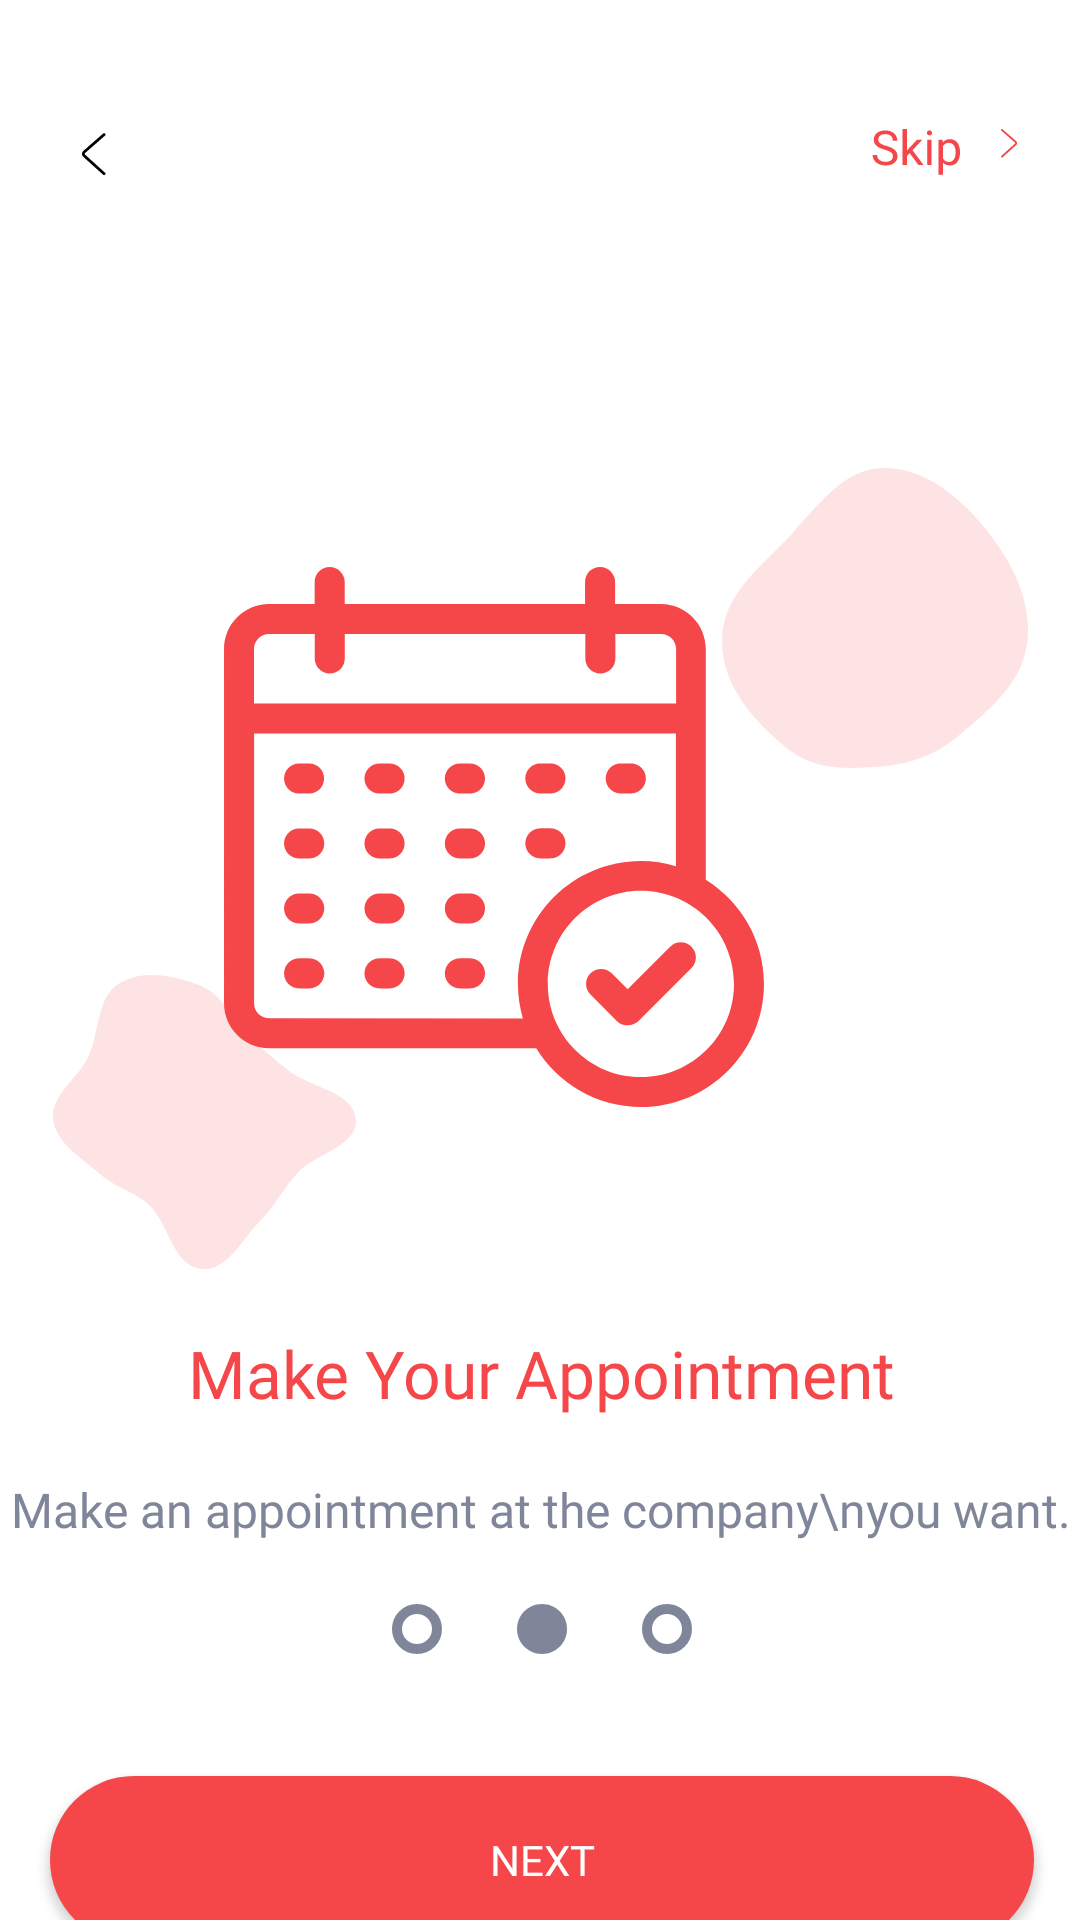

Named icons in this screenshot (1080x1920) and their centers, [x,y]:
back: [94,154]
dots: [542,1629]
